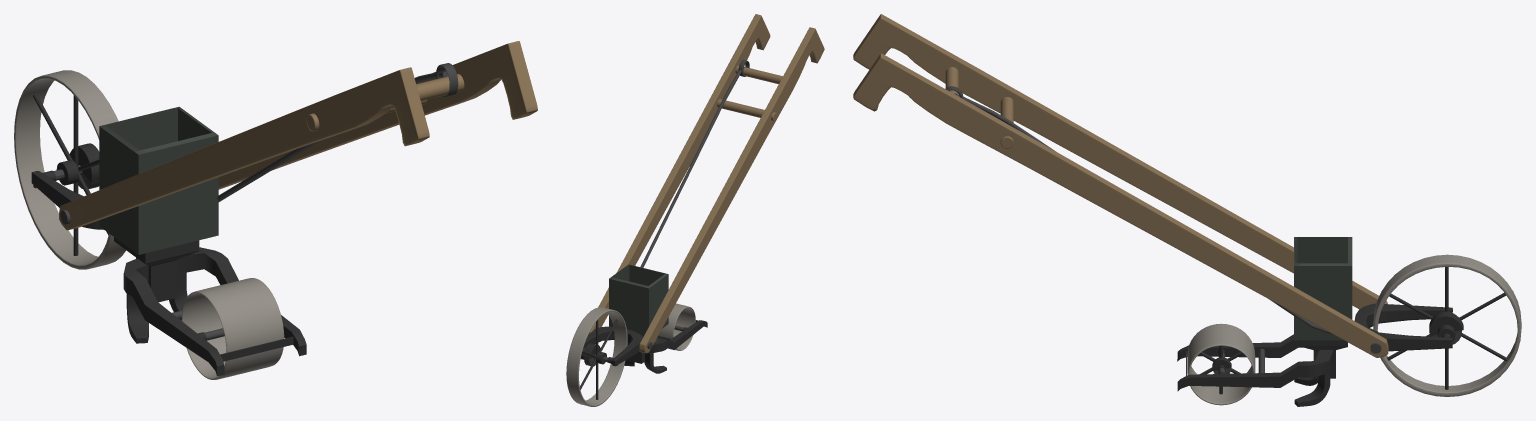
The model's file is seeder.glb.
3 renders of one model, left to right at view 1: azimuth 30°, elevation 25°; view 2: azimuth 150°, elevation 25°; view 3: azimuth 270°, elevation 25°, orthographic. The views are drawn at different scales.
Parts seen in each view (by area): view 1: seeder; view 2: seeder; view 3: seeder.
Boxes of the visible parts, x1,y1,x2,y2 form: seeder: (14,41,537,379); seeder: (566,14,824,406); seeder: (853,14,1521,406).
Size of the model in its own units: 2.36 by 8.54 by 14.4.
